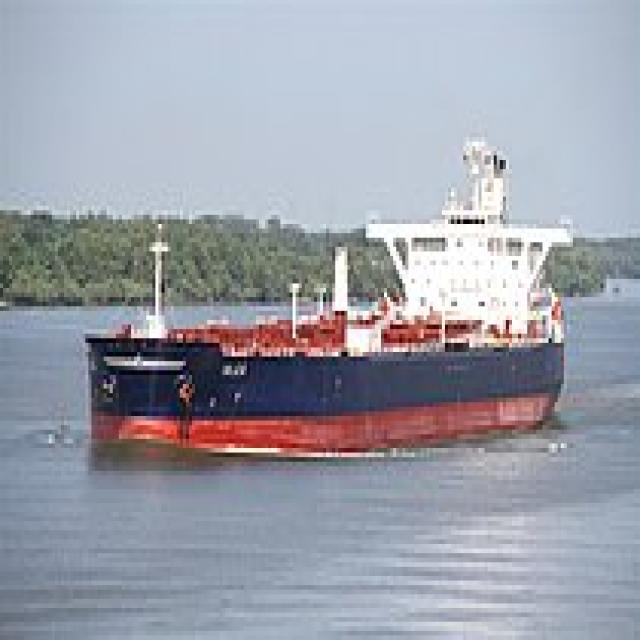Tanker: (79, 128, 570, 443)
